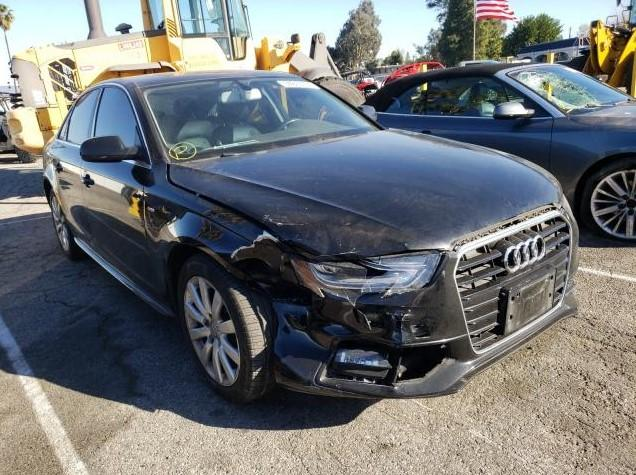Back-door: (50, 143, 87, 244), (56, 86, 100, 143)
Back-wheel: (50, 192, 74, 260)
Back-window: (67, 89, 100, 144), (59, 112, 70, 139)
Fender: (144, 163, 292, 331)
Front-bumper: (269, 195, 580, 397)
Front-door: (79, 83, 169, 310)
Front-wheel: (177, 254, 269, 402)
Front-window: (94, 86, 145, 149)
Grille: (453, 210, 570, 352)
Headlight: (289, 252, 445, 304)
Hood: (169, 127, 562, 262)
License-plate: (500, 265, 556, 335)
Mirror: (80, 136, 150, 165), (356, 105, 377, 123)
Quarter-panel: (43, 134, 56, 185)
Rocker-panel: (73, 237, 177, 322)
Roof: (76, 70, 299, 99)
Windshield: (142, 77, 381, 162)
